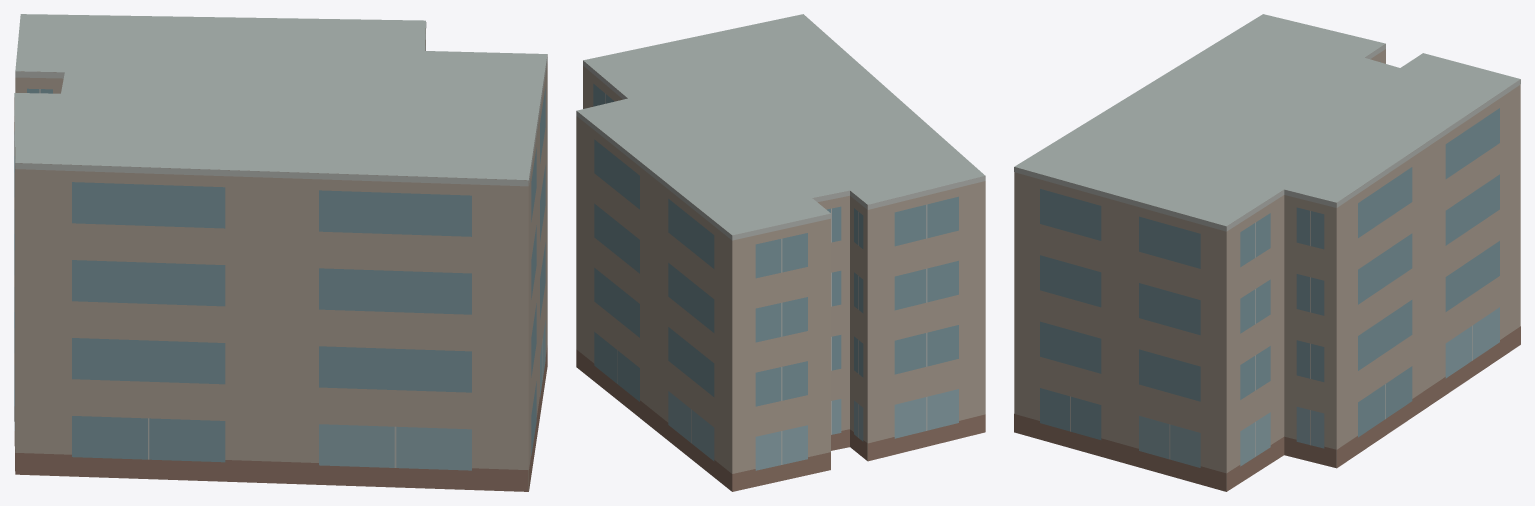
File: survey-upis-32687474.glb
3 renders of one model, left to right at view 1: azimuth 30°, elevation 25°; view 2: azimuth 150°, elevation 25°; view 3: azimuth 270°, elevation 25°, orthographic. The views are drawn at different scales.
Visible parts, largest first — view 1: survey-upis-32687474.tmp; view 2: survey-upis-32687474.tmp; view 3: survey-upis-32687474.tmp.
Boxes of the visible parts, x1=… form: survey-upis-32687474.tmp: x1=14, y1=14, x2=547, y2=491; survey-upis-32687474.tmp: x1=576, y1=14, x2=985, y2=491; survey-upis-32687474.tmp: x1=1014, y1=14, x2=1520, y2=491.
Size of the model in its own units: 20.86 by 12.16 by 21.03.
